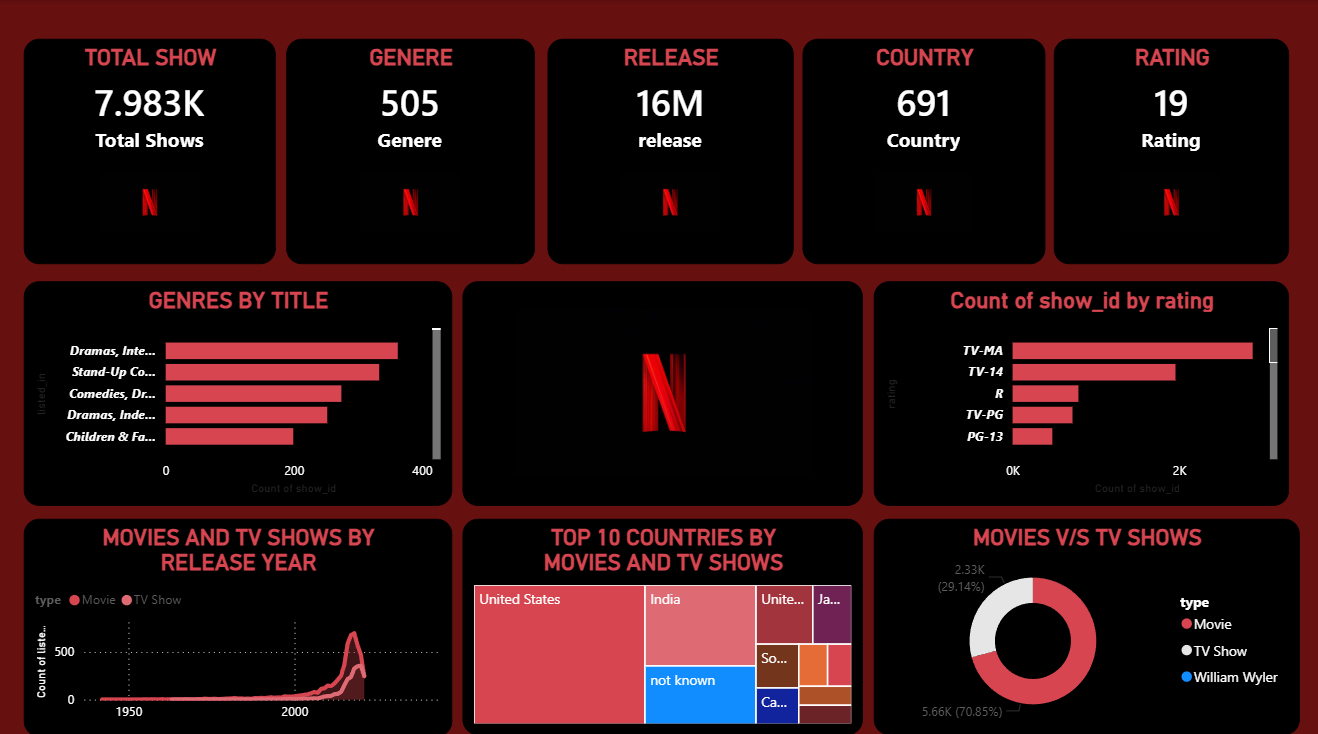

What the dashboard file says about the page in this screenshot:
{"tool":"powerbi","page":{"name":"Page 1","canvas":[1280,720],"ordinal":0},"visuals":[{"type":"cardVisual","title":"TOTAL SHOW","fields":{"Data":["Count(netflix_titles.show_id)"]},"box":[23.2,37.9,243.3,217.7],"z":0},{"type":"cardVisual","title":"GENERE","fields":{"Data":["Count(netflix_titles.listed_in)"]},"box":[276.4,37.9,239.7,217.7],"z":1000},{"type":"clusteredBarChart","title":"GENRES BY TITLE","fields":{"Y":["CountNonNull(netflix_titles.show_id)"],"Category":["netflix_titles.listed_in"]},"box":[23.2,271.5,413.3,216.4],"z":2000},{"type":"clusteredBarChart","fields":{"Category":["netflix_titles.rating"],"Y":["CountNonNull(netflix_titles.show_id)"]},"box":[843.8,271.5,401.1,216.4],"z":3000},{"type":"areaChart","title":"MOVIES AND TV SHOWS BY RELEASE YEAR","fields":{"Category":["netflix_titles.release_year"],"Y":["CountNonNull(netflix_titles.listed_in)"],"Series":["netflix_titles.type"]},"box":[23.2,500.1,413.3,210.3],"z":4000},{"type":"treemap","title":"TOP 10 COUNTRIES  BY MOVIES AND TV SHOWS","fields":{"Group":["netflix_titles.country"],"Values":["CountNonNull(netflix_titles.show_id)"]},"box":[446.3,500.1,386.4,209.1],"z":5000},{"type":"donutChart","title":"MOVIES V/S TV SHOWS ","fields":{"Category":["netflix_titles.type"],"Y":["CountNonNull(netflix_titles.listed_in)"]},"box":[843.8,500.1,410.9,209.1],"z":6000},{"type":"cardVisual","title":"RELEASE","fields":{"Data":["Sum(netflix_titles.release_year)"]},"box":[528.3,37.9,237.2,217.7],"z":7000},{"type":"cardVisual","title":"COUNTRY","fields":{"Data":["Count(netflix_titles.country)"]},"box":[774.1,37.9,234.8,217.7],"z":8000},{"type":"cardVisual","title":"RATING","fields":{"Data":["Count(netflix_titles.rating)"]},"box":[1017.4,37.9,227.4,217.7],"z":9000},{"type":"image","box":[446.3,271.5,386.4,216.4],"z":10000}]}

Visuals, with their boxes in screenshot pixels (x1, y1, x2, y2), scaled from the page's 1280x720 canvas onto the 1318x734 screenshot:
"TOTAL SHOW" cardVisual: [24,39,274,261]
"GENERE" cardVisual: [285,39,531,261]
"GENRES BY TITLE" clusteredBarChart: [24,277,449,497]
clusteredBarChart - netflix_titles.rating x CountNonNull(netflix_titles.show_id): [869,277,1282,497]
"MOVIES AND TV SHOWS BY RELEASE YEAR" areaChart: [24,510,449,724]
"TOP 10 COUNTRIES  BY MOVIES AND TV SHOWS" treemap: [460,510,857,723]
"MOVIES V/S TV SHOWS " donutChart: [869,510,1292,723]
"RELEASE" cardVisual: [544,39,788,261]
"COUNTRY" cardVisual: [797,39,1039,261]
"RATING" cardVisual: [1048,39,1282,261]
image: [460,277,857,497]
